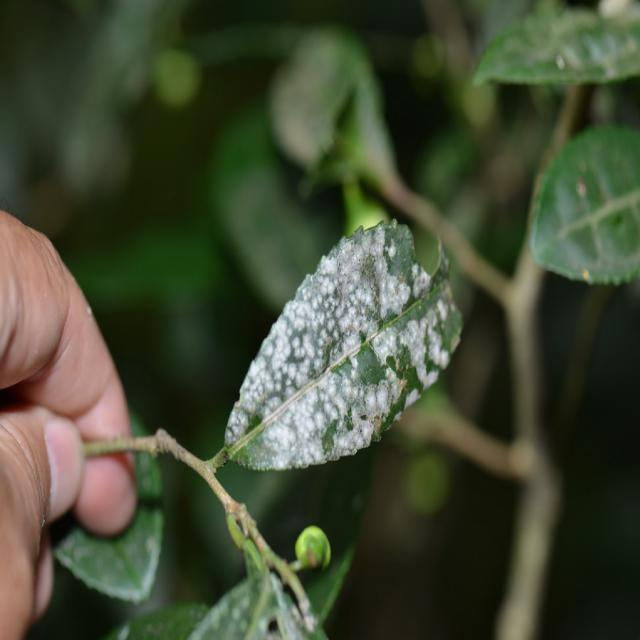Tea algae leaf spot: (245, 211, 443, 466)
